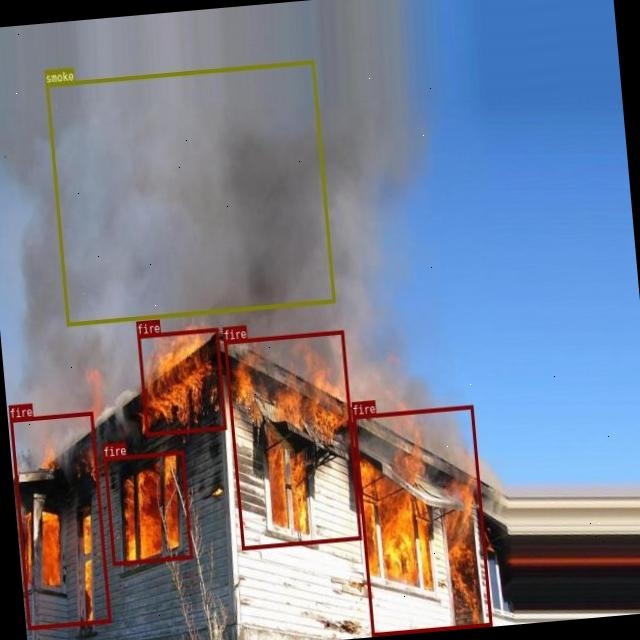fire: (352, 404, 492, 635), (224, 330, 362, 550), (10, 412, 110, 630), (103, 450, 191, 565), (137, 327, 226, 436)
smoke: (44, 59, 334, 326)
